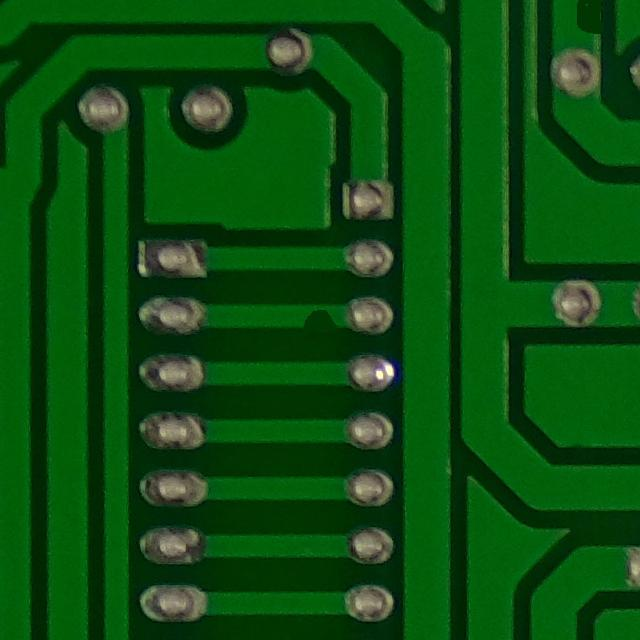mouse_bite: (295, 300, 345, 340)
